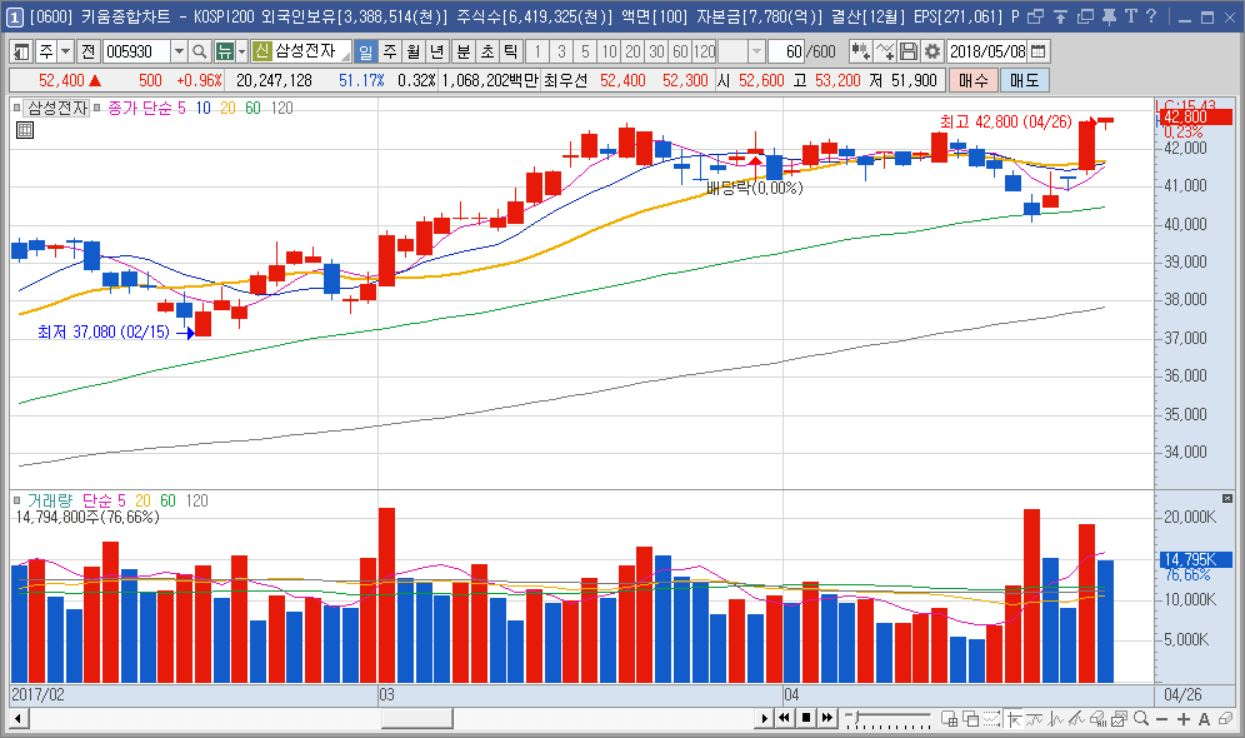up: (194, 111, 1117, 680)
